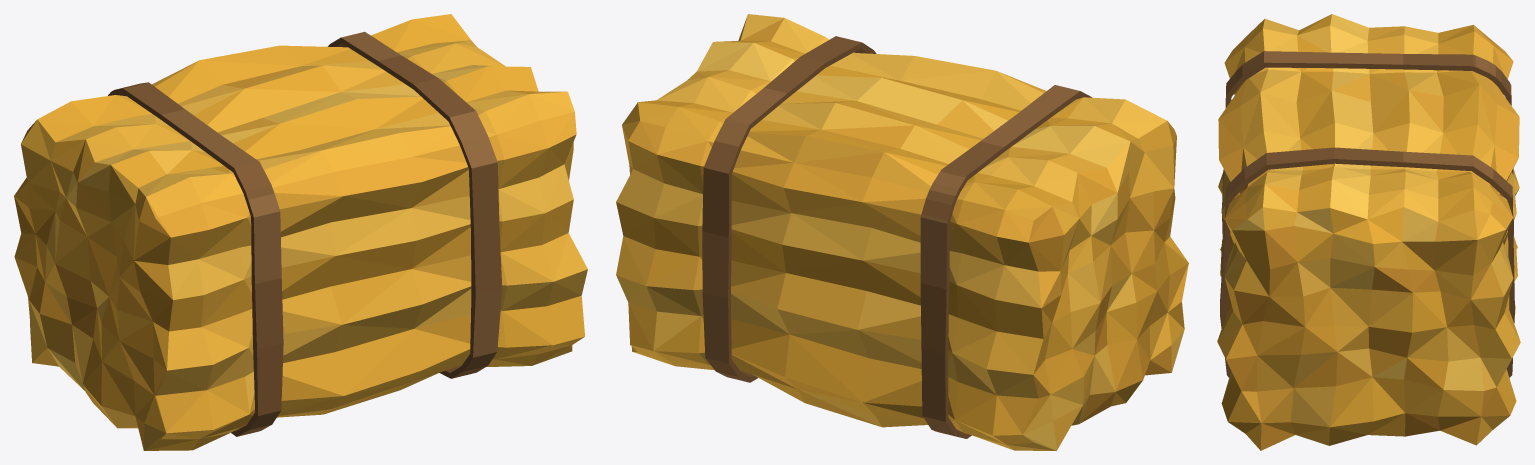
File: Hay Bale.glb
3 renders of one model, left to right at view 1: azimuth 30°, elevation 25°; view 2: azimuth 150°, elevation 25°; view 3: azimuth 270°, elevation 25°, orthographic. The views are drawn at different scales.
Visible parts, largest first — view 1: Hay Bale; view 2: Hay Bale; view 3: Hay Bale.
Part boxes in pixels (x1,y1,x2,y2): Hay Bale: (14, 14, 587, 450); Hay Bale: (616, 14, 1188, 450); Hay Bale: (1217, 14, 1520, 450).
Bounding box in the file's own units: 0.9834 × 0.5871 × 0.6226.
